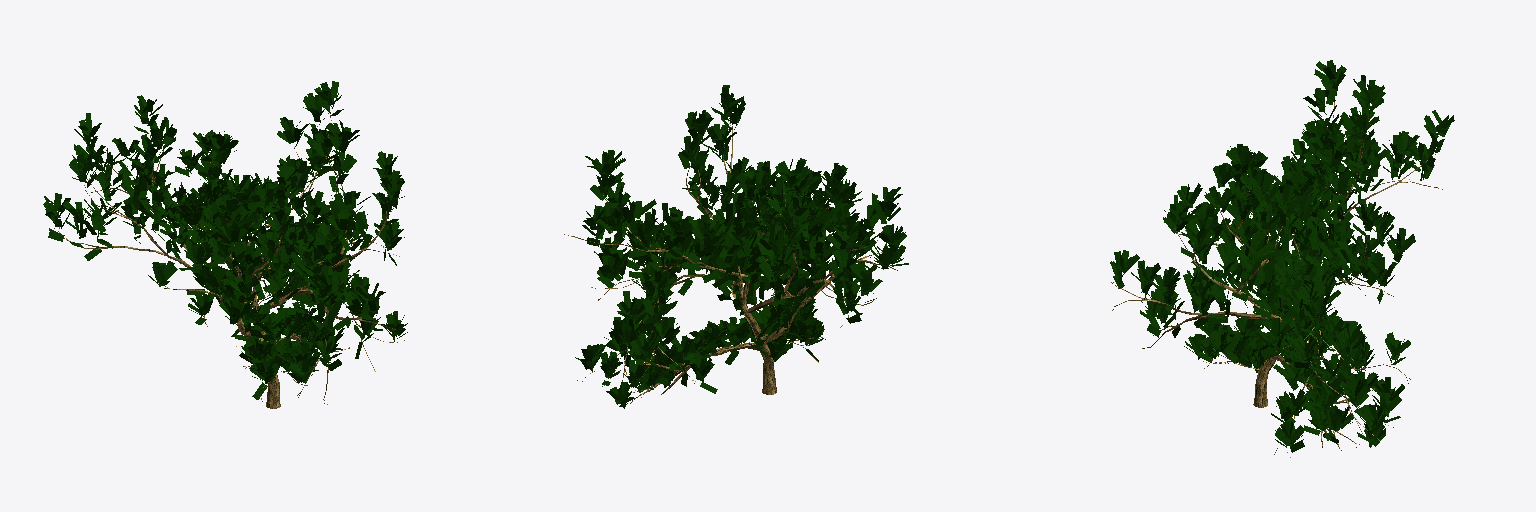
The picture shows the model from 3 angles: view 1: azimuth 30°, elevation 25°; view 2: azimuth 150°, elevation 25°; view 3: azimuth 270°, elevation 25°; orthographic projection.
Parts seen in each view (by area): view 1: leaves.001, stems_1.001; view 2: leaves.001, stems_1.001, trunk.001; view 3: leaves.001, stems_1.001, trunk.001.
Part boxes in pixels (x1,y1,x2,y2): leaves.001: (43, 81, 407, 399); stems_1.001: (54, 115, 404, 404); leaves.001: (575, 85, 908, 408); stems_1.001: (564, 120, 897, 403); trunk.001: (737, 255, 776, 394); leaves.001: (1110, 60, 1454, 452); stems_1.001: (1111, 101, 1442, 457); trunk.001: (1253, 235, 1300, 407).
Size of the model in its own units: 152 by 131 by 143.
2 materials, 1 textured.